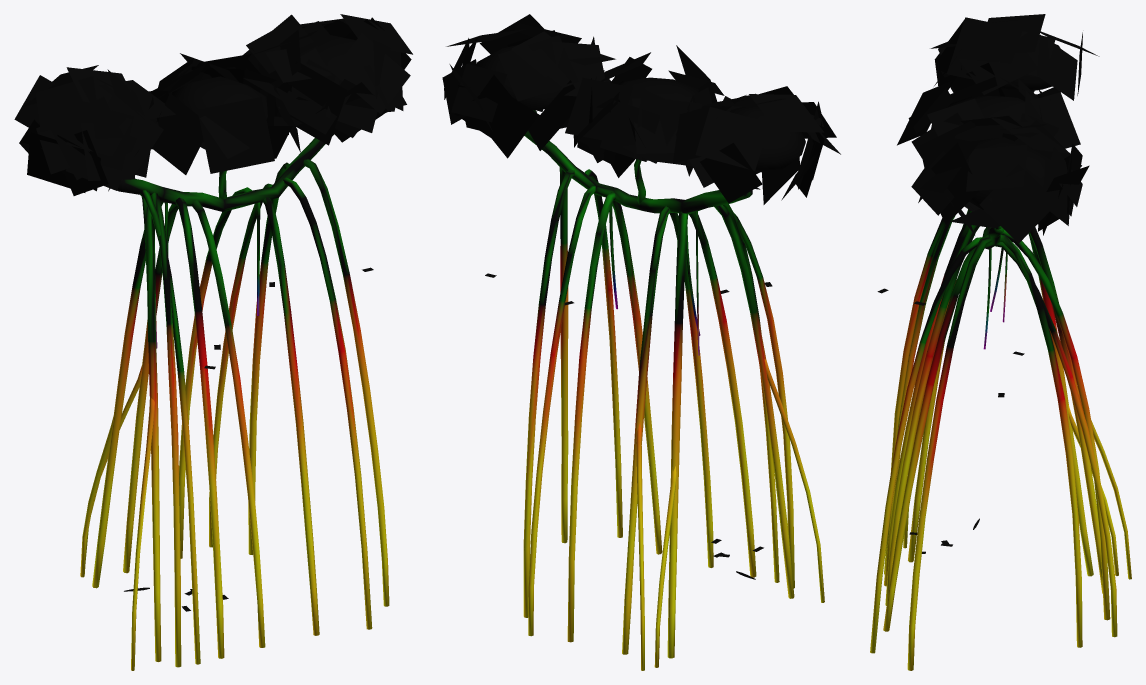
File: mangrove_roots_a.glb
The picture shows the model from 3 angles, left to right: view 1: azimuth 30°, elevation 25°; view 2: azimuth 150°, elevation 25°; view 3: azimuth 270°, elevation 25°; orthographic projection. The views are drawn at different scales.
Visible parts, largest first — view 1: mangrove_roots_a; view 2: mangrove_roots_a; view 3: mangrove_roots_a.
Boxes of the visible parts, bbox=[...] form: mangrove_roots_a: bbox=[14, 14, 412, 670]; mangrove_roots_a: bbox=[442, 14, 840, 670]; mangrove_roots_a: bbox=[870, 14, 1131, 670].
Size of the model in its own units: 4.63 by 6.51 by 2.88.
